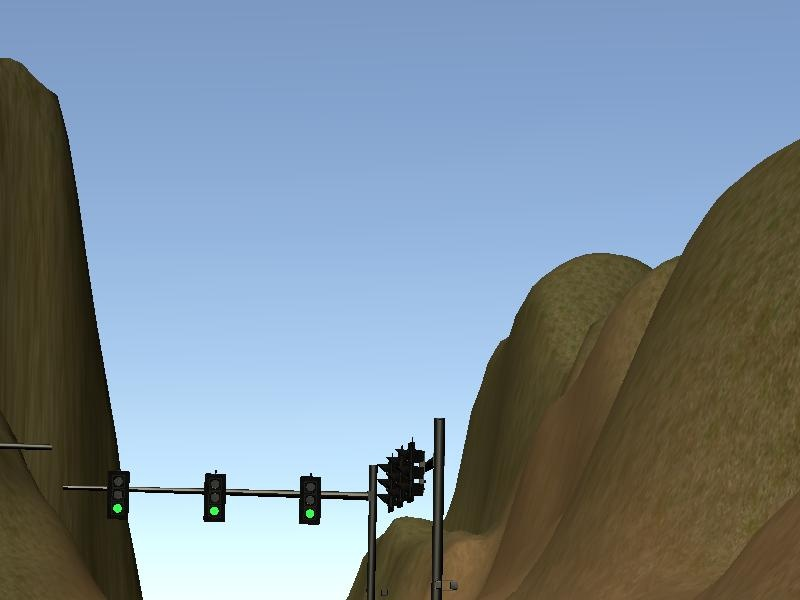green: (106, 466, 131, 523), (204, 472, 226, 523), (298, 474, 320, 525)
